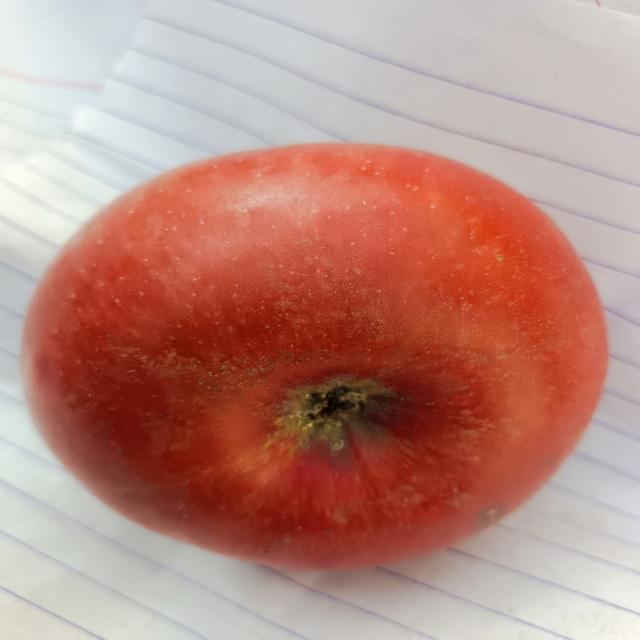Fresh Apple: (38, 137, 602, 563)
